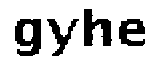e: (113, 16, 150, 52)
g: (9, 15, 42, 59)
h: (80, 4, 113, 52)
y: (43, 15, 82, 59)
